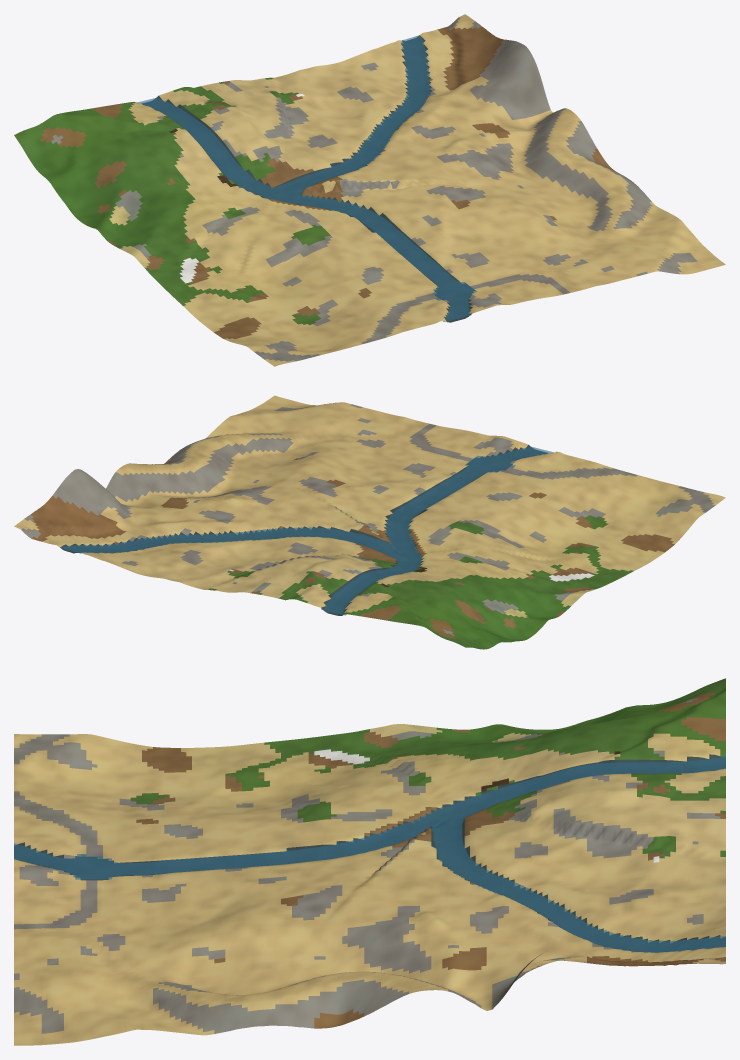
File: chunk_5_4.glb
3 views of the same model, one above another, from view 1: azimuth 30°, elevation 25°; view 2: azimuth 150°, elevation 25°; view 3: azimuth 270°, elevation 25° (orthographic). The views are drawn at different scales.
Visible parts, largest first — view 1: Surface_Sand, Surface_Gravel, Surface_Grass, Surface_Water, Water, Surface_Dirt; view 2: Surface_Sand, Surface_Gravel, Surface_Grass, Surface_Water, Water, Surface_Dirt; view 3: Surface_Sand, Surface_Gravel, Surface_Grass, Surface_Water, Water, Surface_Dirt.
Boxes of the visible parts, x1,y1,x2,y2 form: Surface_Sand: (109, 14, 725, 366); Surface_Gravel: (51, 17, 697, 361); Surface_Grass: (14, 77, 330, 325); Surface_Water: (142, 35, 474, 322); Water: (137, 35, 477, 321); Surface_Dirt: (40, 26, 615, 338); Surface_Sand: (14, 395, 725, 617); Surface_Gravel: (21, 402, 715, 635); Surface_Grass: (208, 515, 633, 649); Surface_Water: (60, 445, 547, 615); Water: (61, 446, 553, 615); Surface_Dirt: (30, 458, 674, 639); Surface_Sand: (14, 724, 725, 1045); Surface_Gravel: (14, 698, 722, 1033); Surface_Grass: (130, 678, 725, 858); Surface_Water: (14, 754, 725, 952); Water: (14, 756, 725, 952); Surface_Dirt: (136, 692, 725, 1028).
Size of the model in its own units: 256 by 40.21 by 256.
